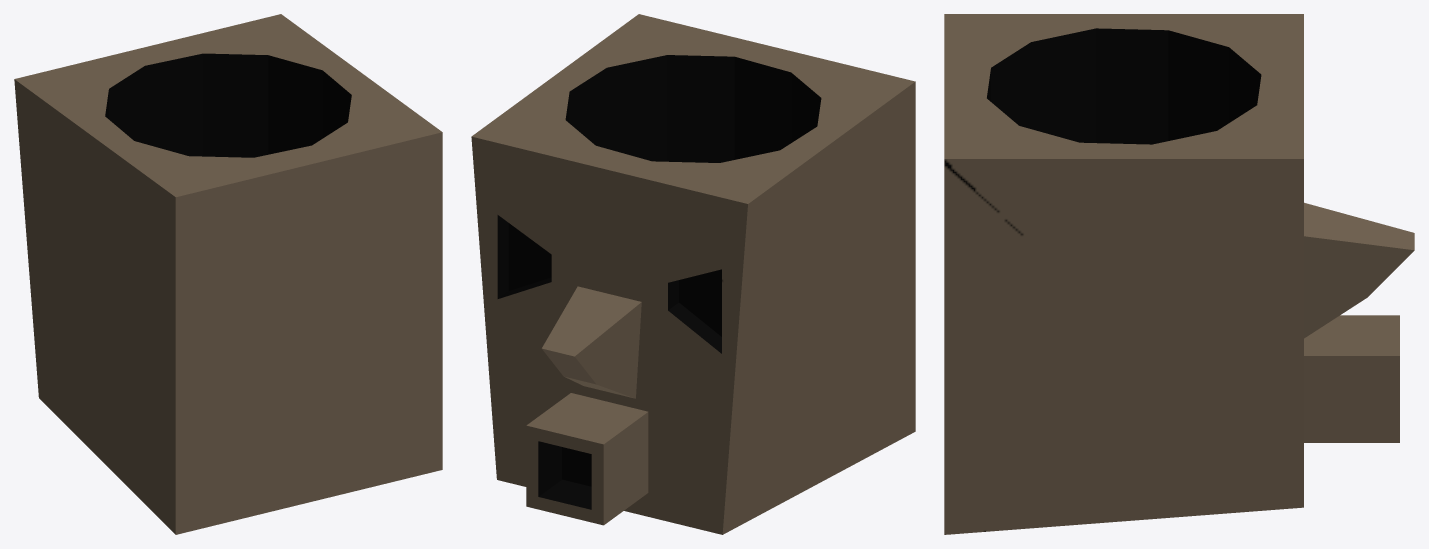
Rendered from goblin_totems_totem1.fbx.
3 renders of one model, left to right at view 1: azimuth 30°, elevation 25°; view 2: azimuth 150°, elevation 25°; view 3: azimuth 270°, elevation 25°, orthographic. The views are drawn at different scales.
Visible parts, largest first — view 1: totem1; view 2: totem1; view 3: totem1.
Boxes of the visible parts, left/top/right/bottom form: totem1: left=14, top=14, right=442, bottom=534; totem1: left=471, top=14, right=915, bottom=534; totem1: left=944, top=14, right=1414, bottom=534.
Bounding box in the file's own units: 30.64 × 37.05 × 42.01.
Materials: 1 (1 with a texture image).
